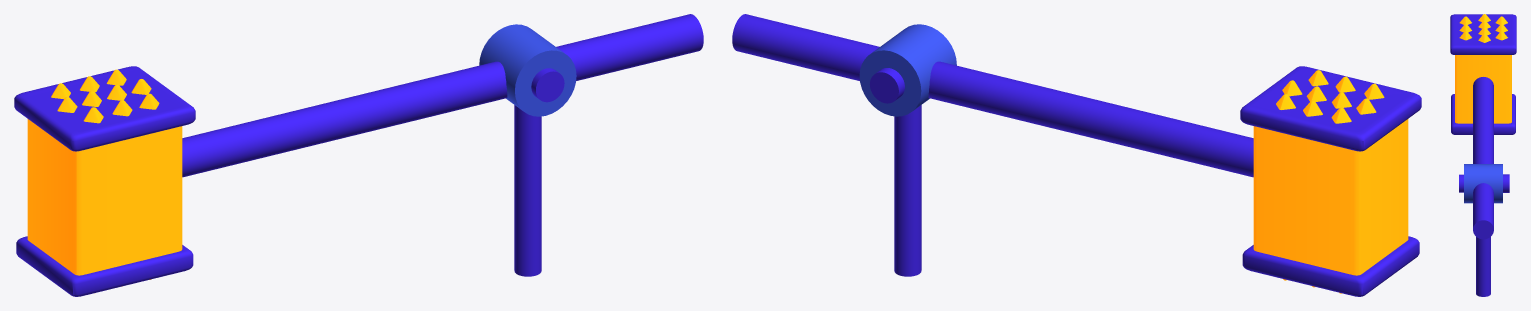
File: TokmakEngel.fbx
3 renders of one model, left to right at view 1: azimuth 30°, elevation 25°; view 2: azimuth 150°, elevation 25°; view 3: azimuth 270°, elevation 25°, orthographic. The views are drawn at different scales.
Parts seen in each view (by area): view 1: Tokmak, Direk; view 2: Tokmak, Direk; view 3: Tokmak, Direk.
Part boxes in pixels (x1,y1,x2,y2): Tokmak: [14, 14, 703, 296]; Direk: [479, 24, 576, 276]; Tokmak: [732, 14, 1421, 296]; Direk: [859, 24, 956, 276]; Tokmak: [1450, 14, 1516, 239]; Direk: [1459, 164, 1509, 296].
Size of the model in its own units: 2244 by 938 by 360.
